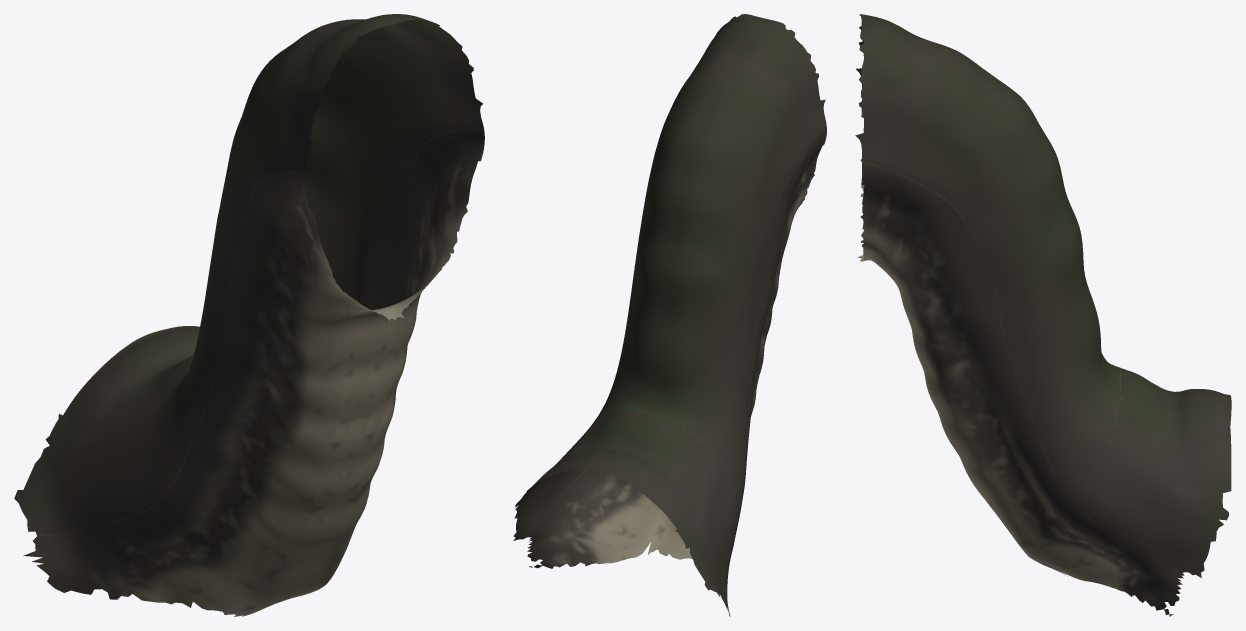
The model's file is cuello.obj.
3 renders of one model, left to right at view 1: azimuth 30°, elevation 25°; view 2: azimuth 150°, elevation 25°; view 3: azimuth 270°, elevation 25°, orthographic. The views are drawn at different scales.
Parts seen in each view (by area): view 1: Cylinder_027; view 2: Cylinder_027; view 3: Cylinder_027.
Part boxes in pixels (x1=…): Cylinder_027: x1=14, y1=14, x2=484, y2=616; Cylinder_027: x1=513, y1=14, x2=826, y2=616; Cylinder_027: x1=855, y1=14, x2=1231, y2=616.
Size of the model in its own units: 0.3295 by 0.6997 by 0.4402.
Materials: 1 (1 with a texture image).
